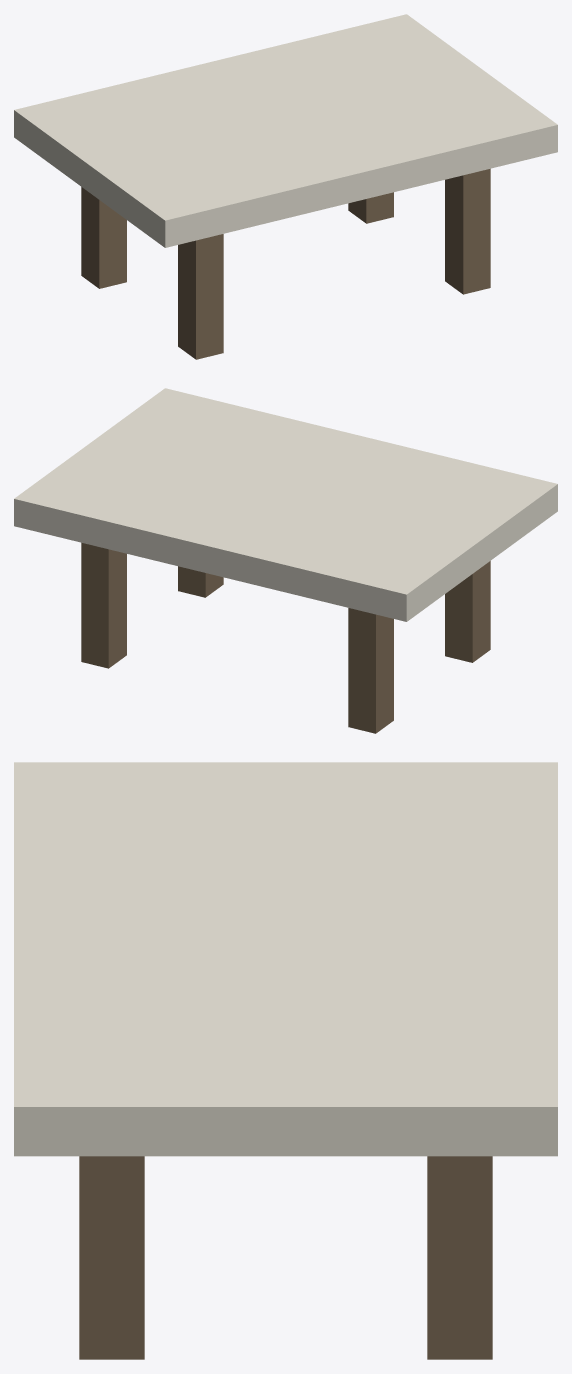
Rendered from catalog-table-stone-90.gltf.
The picture shows the model from 3 angles, top to bottom: view 1: azimuth 30°, elevation 25°; view 2: azimuth 150°, elevation 25°; view 3: azimuth 270°, elevation 25°; orthographic projection. The views are drawn at different scales.
Visible parts, largest first — view 1: Top, Leg-11, Leg11, Leg-1-1, Leg1-1; view 2: Top, Leg-1-1, Leg1-1, Leg-11, Leg11; view 3: Top, Leg1-1, Leg11.
Part boxes in pixels (bbox=[...]): Top: bbox=[14, 14, 557, 247]; Leg-11: bbox=[178, 234, 223, 359]; Leg11: bbox=[445, 168, 490, 294]; Leg-1-1: bbox=[81, 187, 126, 288]; Leg1-1: bbox=[348, 192, 393, 223]; Top: bbox=[14, 388, 557, 621]; Leg-1-1: bbox=[348, 608, 393, 733]; Leg1-1: bbox=[81, 542, 126, 668]; Leg-11: bbox=[445, 561, 490, 662]; Leg11: bbox=[178, 566, 223, 597]; Top: bbox=[14, 762, 557, 1156]; Leg1-1: bbox=[427, 1156, 492, 1359]; Leg11: bbox=[79, 1156, 144, 1359].
Bounding box in the file's own units: 0.9 × 0.36 × 0.6.
